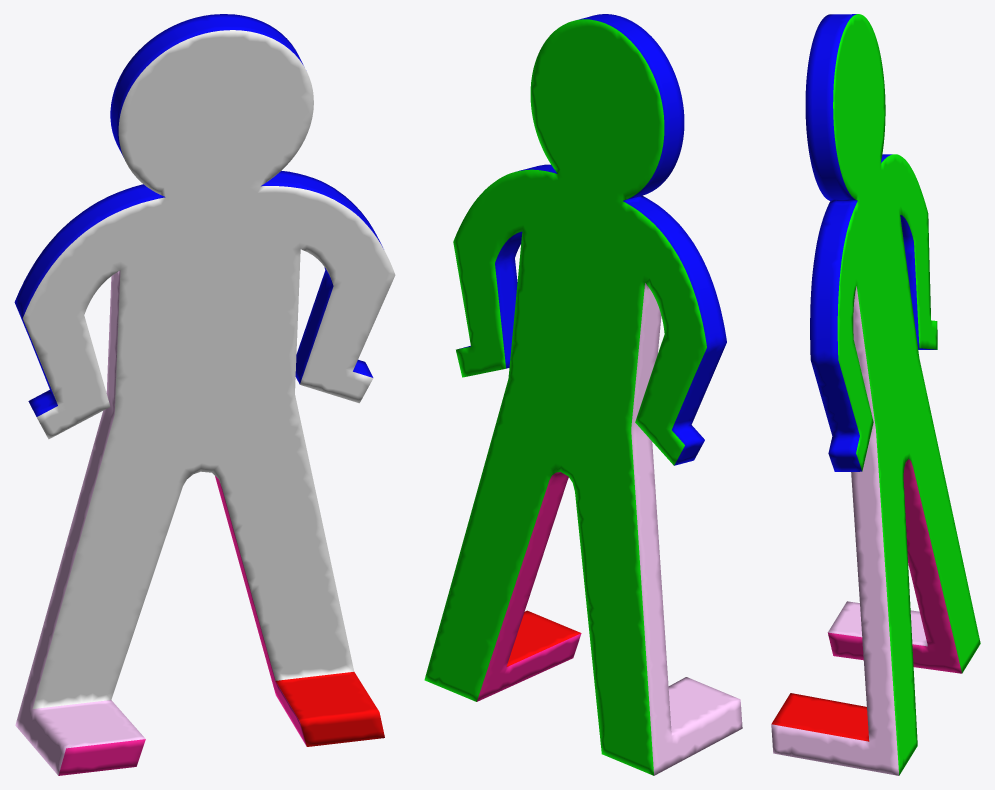
The model's file is model_14159_segmented.obj.
The picture shows the model from 3 angles, left to right: view 1: azimuth 30°, elevation 25°; view 2: azimuth 150°, elevation 25°; view 3: azimuth 270°, elevation 25°; orthographic projection. The views are drawn at different scales.
Bounding box in the file's own units: 24.52 × 51.93 × 14.55.
